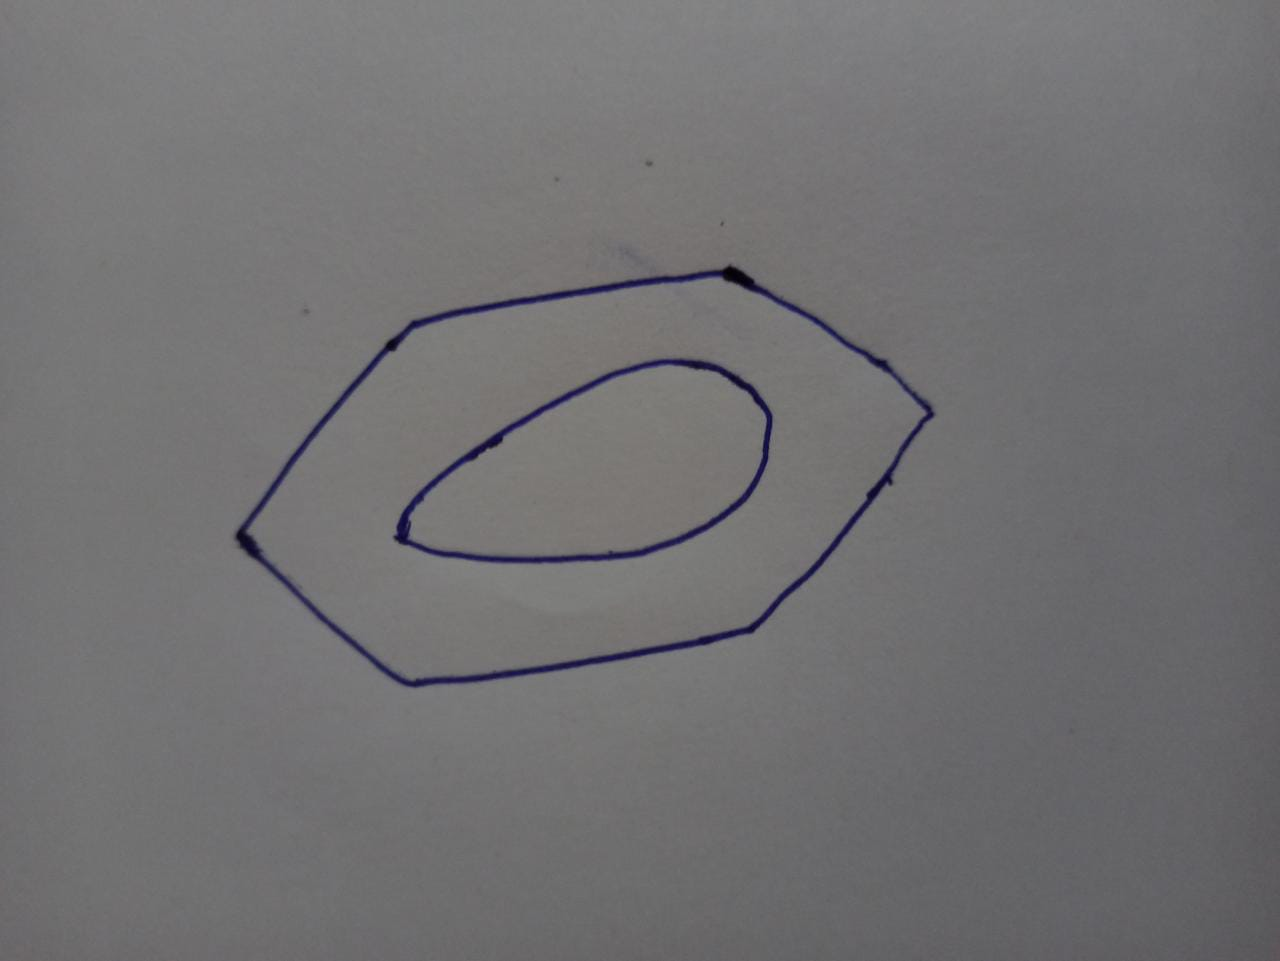shape_mask: (189, 215, 995, 722)
